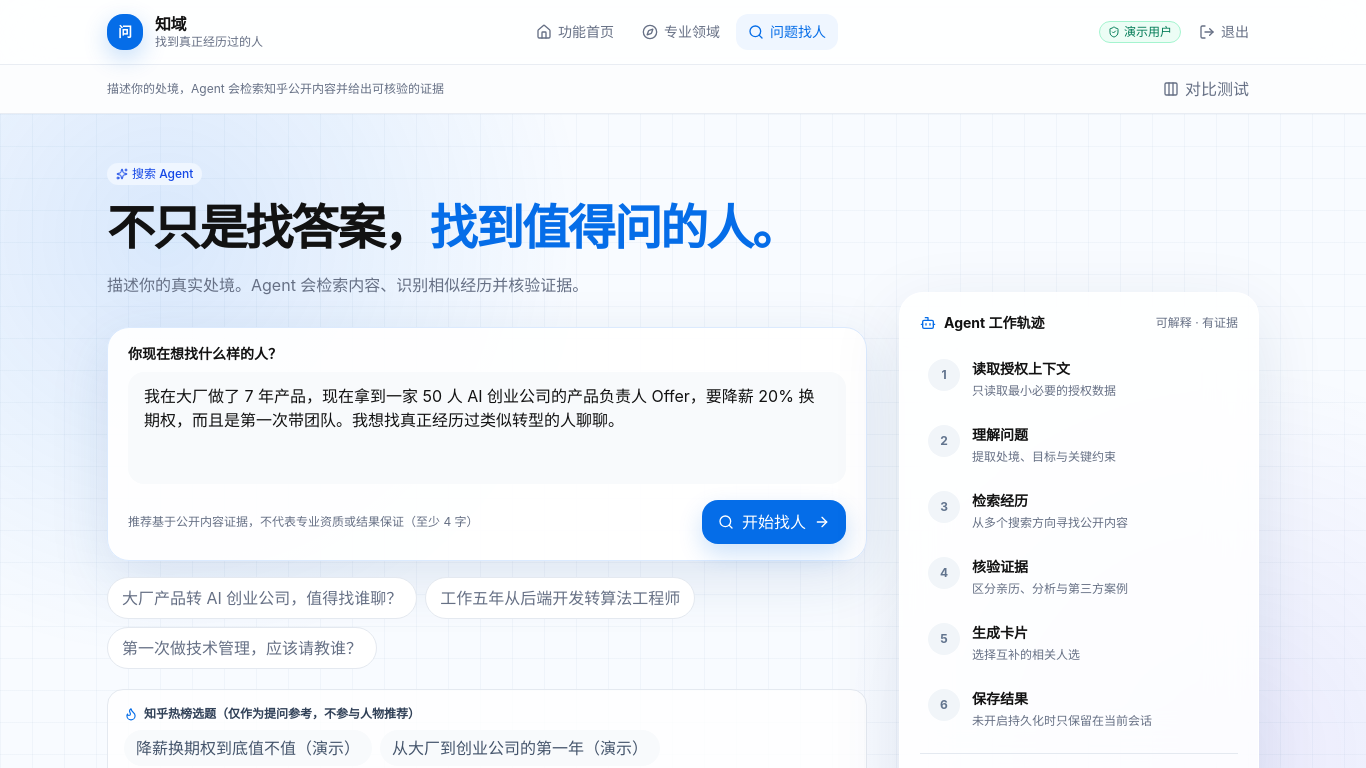
首页搜索交互 › 429 限流：保留输入、给出可读提示，并且可以重试成功
Click the button "开始找人" at (774, 522), box [702, 500, 846, 544]
(page scrolled)
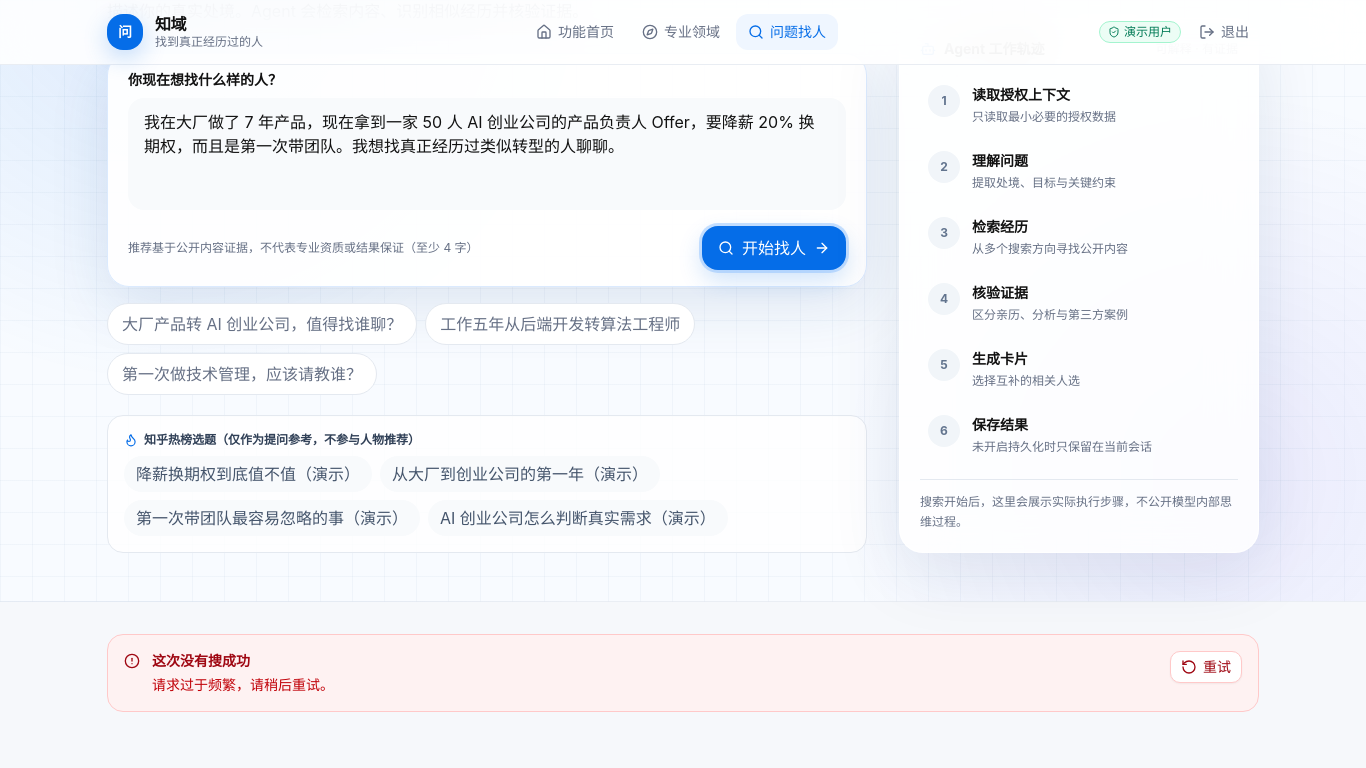
Expected: the text box labelled "你现在想找什么样的人？" holds "我在大厂做了 7 年产品，现在拿到一家 50 人 AI 创业公司的产品负责人 Offer，要降薪 20% 换期权，而且是第一次带团队。我想找真正经历过类似转型的人聊聊。", [128, 98, 846, 210]
Expected: the text "请求过于频繁，请稍后重试。" is shown, [152, 676, 334, 693]
Click the button "重试" at (1206, 667), box [1170, 651, 1242, 683]
(page scrolled)
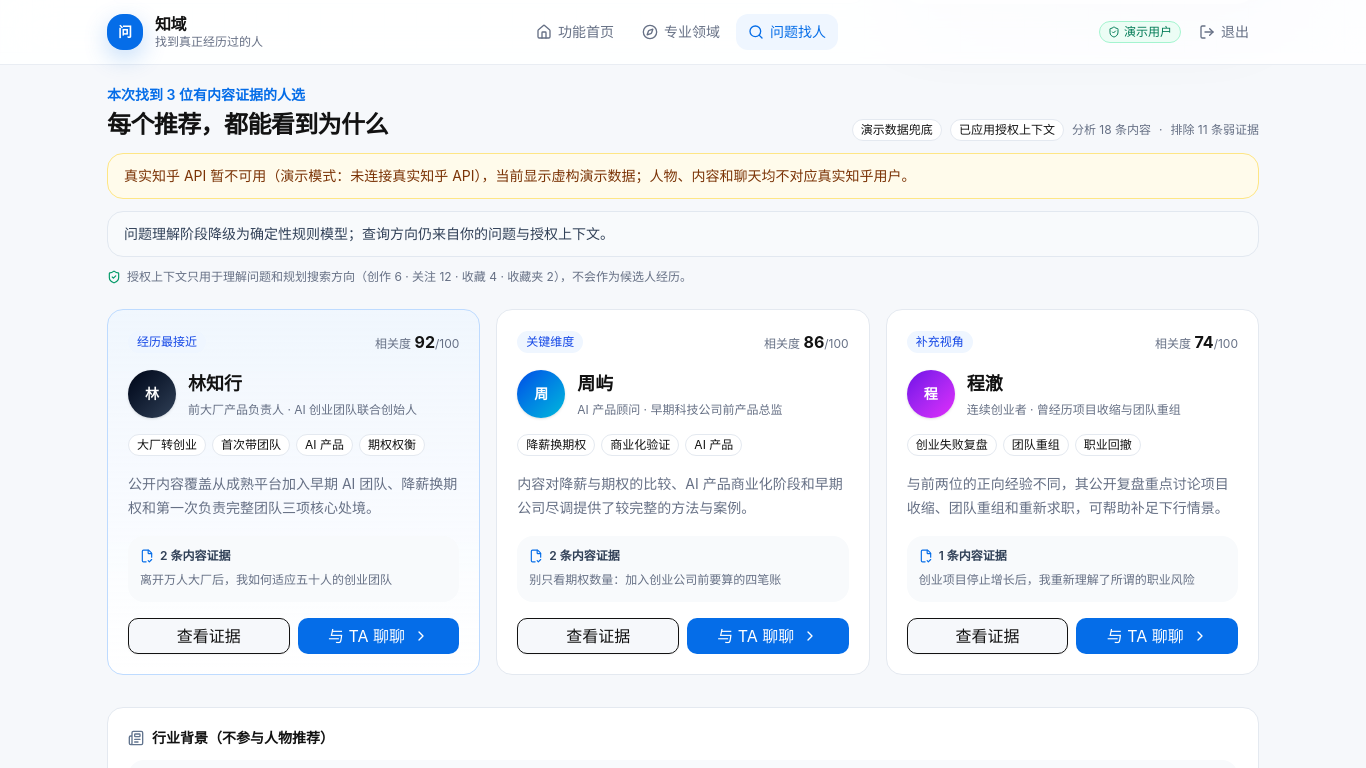
Expected: the text "林知行" is shown, [188, 373, 242, 394]
